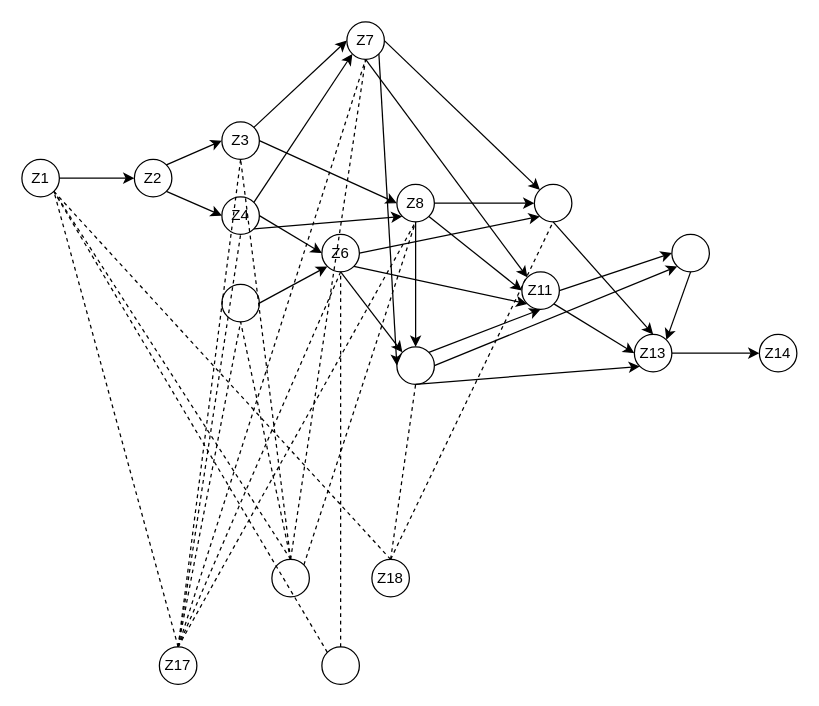
This 819x706 diagram has some shape labels left out. The centre of each missing label's shape, as x and y in pixels:
"Z10" goes at (x=552, y=202).
"Z12" goes at (x=690, y=252).
"Z15" goes at (x=290, y=577).
"Z16" goes at (x=340, y=665).
"Z5" goes at (x=240, y=302).
"Z9" goes at (x=415, y=365).
